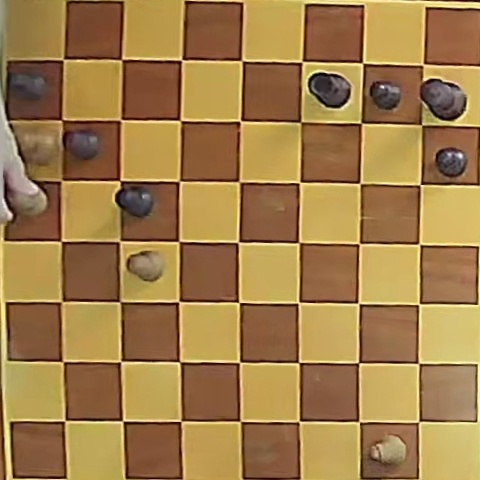black-king: (420, 79, 466, 121)
black-pawn: (116, 185, 154, 218), (63, 127, 100, 160), (10, 72, 47, 100), (435, 147, 467, 177), (370, 81, 402, 110)
black-rook: (308, 72, 351, 108)
white-bishop: (370, 434, 408, 465)
white-king: (19, 130, 58, 166)
white-pawn: (127, 250, 164, 282)
